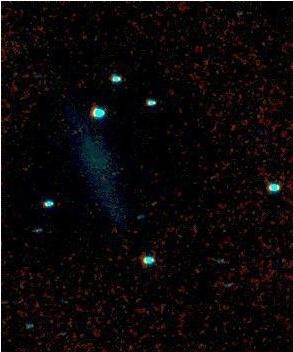star: (178, 256, 208, 286)
